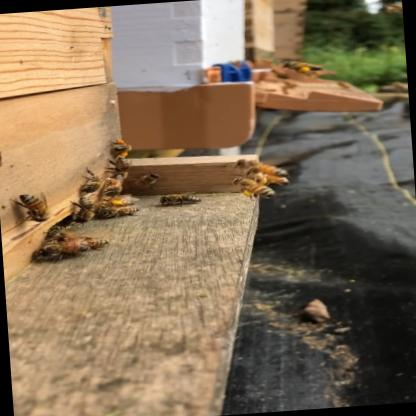bee: (3, 130, 166, 276), (215, 154, 306, 208), (21, 219, 119, 268), (8, 182, 70, 230), (262, 52, 332, 84), (148, 180, 206, 211), (118, 160, 162, 196)
